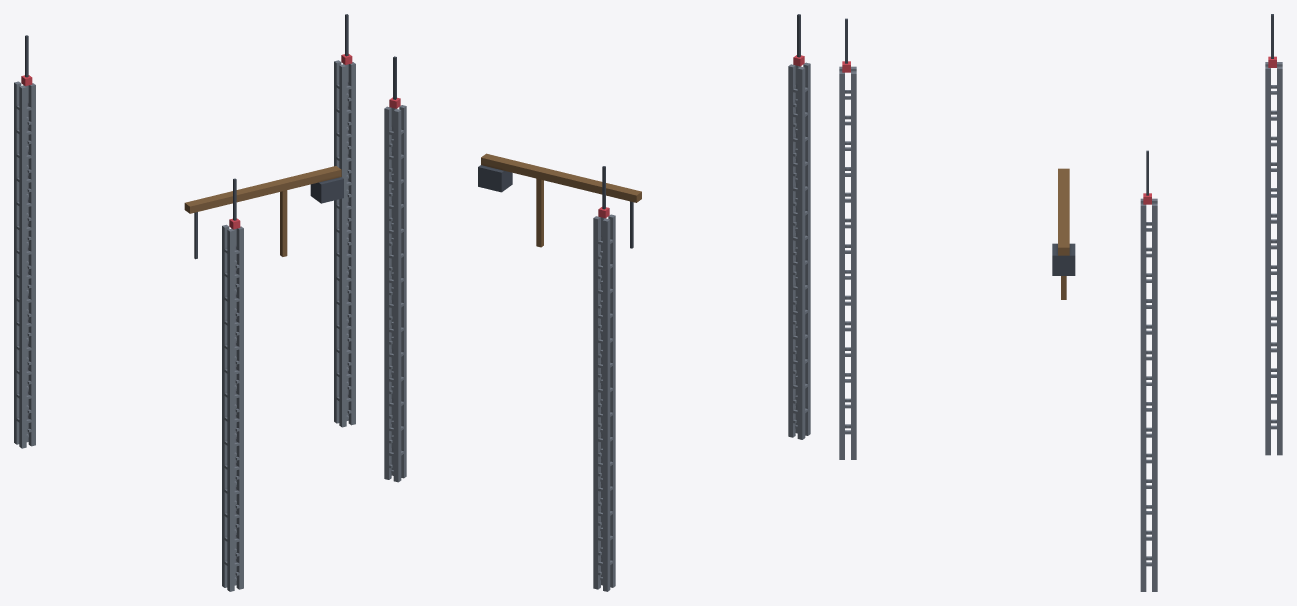
The model's file is pad_e1_l3.glb.
3 renders of one model, left to right at view 1: azimuth 30°, elevation 25°; view 2: azimuth 150°, elevation 25°; view 3: azimuth 270°, elevation 25°, orthographic. The views are drawn at different scales.
Visible parts, largest first — view 1: Base; view 2: Base; view 3: Base.
Part boxes in pixels (x1,y1,x2,y2): Base: (14,14,355,591); Base: (384,14,810,591); Base: (839,14,1282,591).
Bounding box in the file's own units: 12 × 17 × 15.6.
